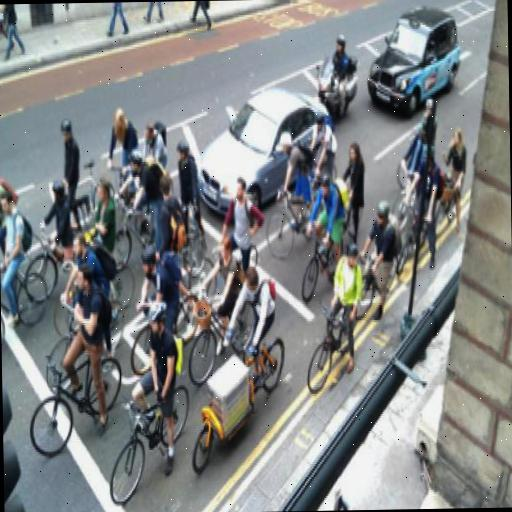helmet: (23, 260, 122, 446), (108, 283, 190, 498)
